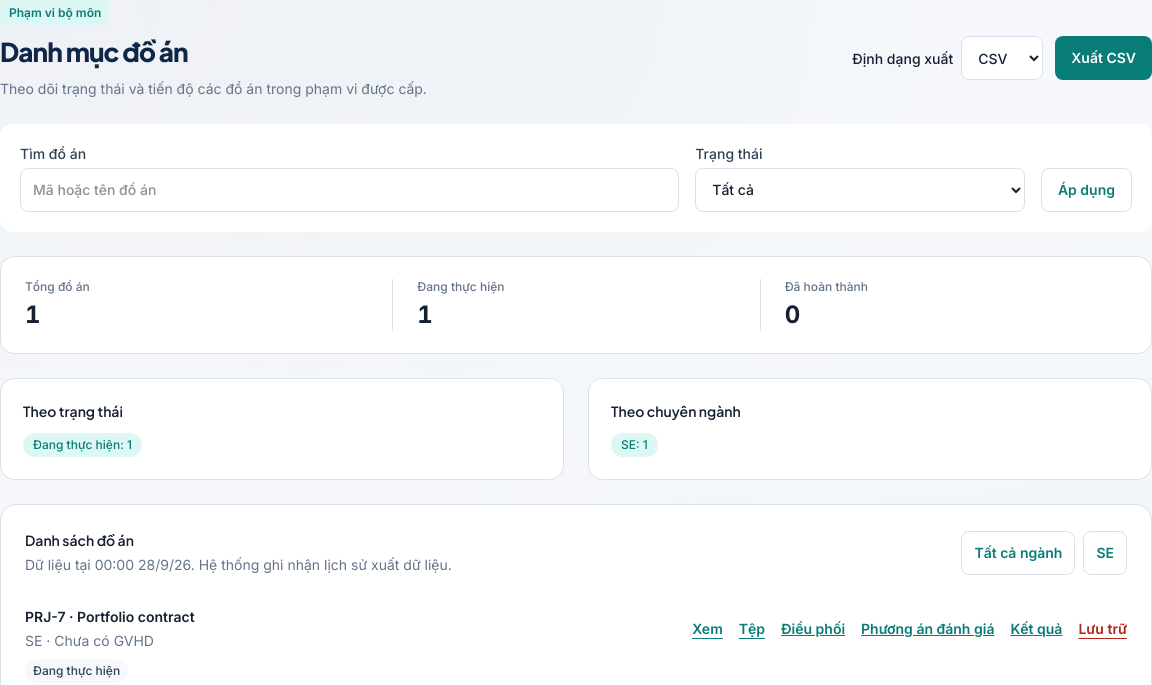
PortfolioDashboardPage › cancels archive without a write, and reloads conflicts without replaying
Click the button "Lưu trữ" at (1103,629), box top-left (1078, 607), bottom-right (1127, 651)
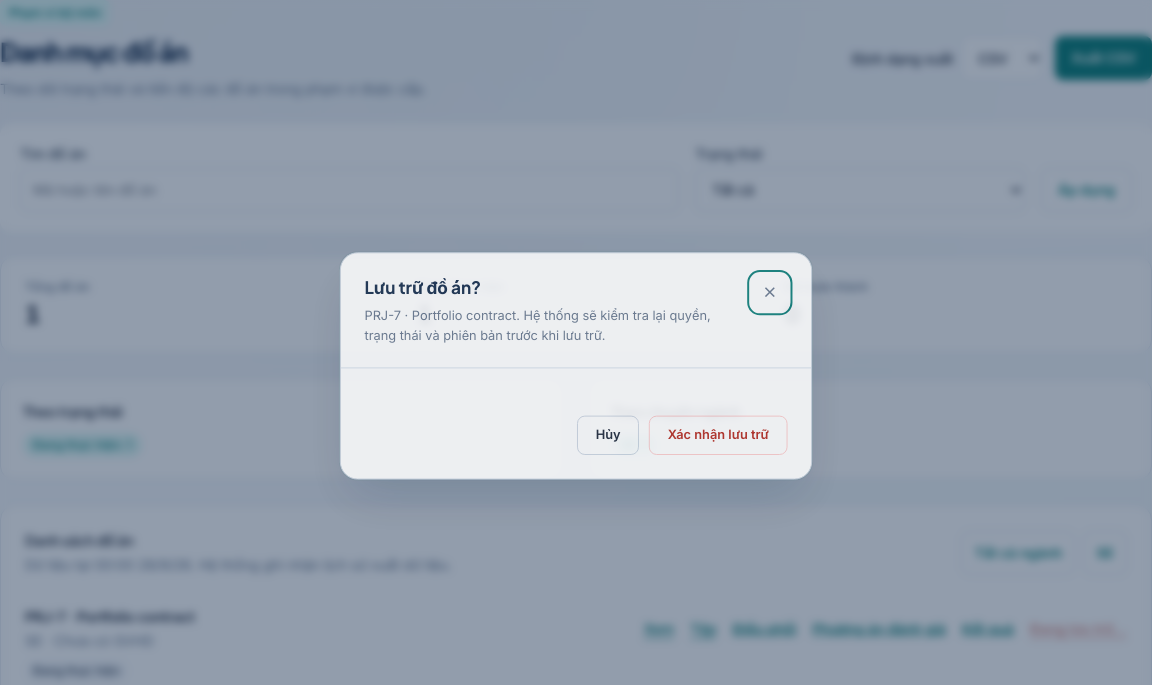
Click the button "Hủy" at (609,431), box top-left (577, 411), bottom-right (640, 451)
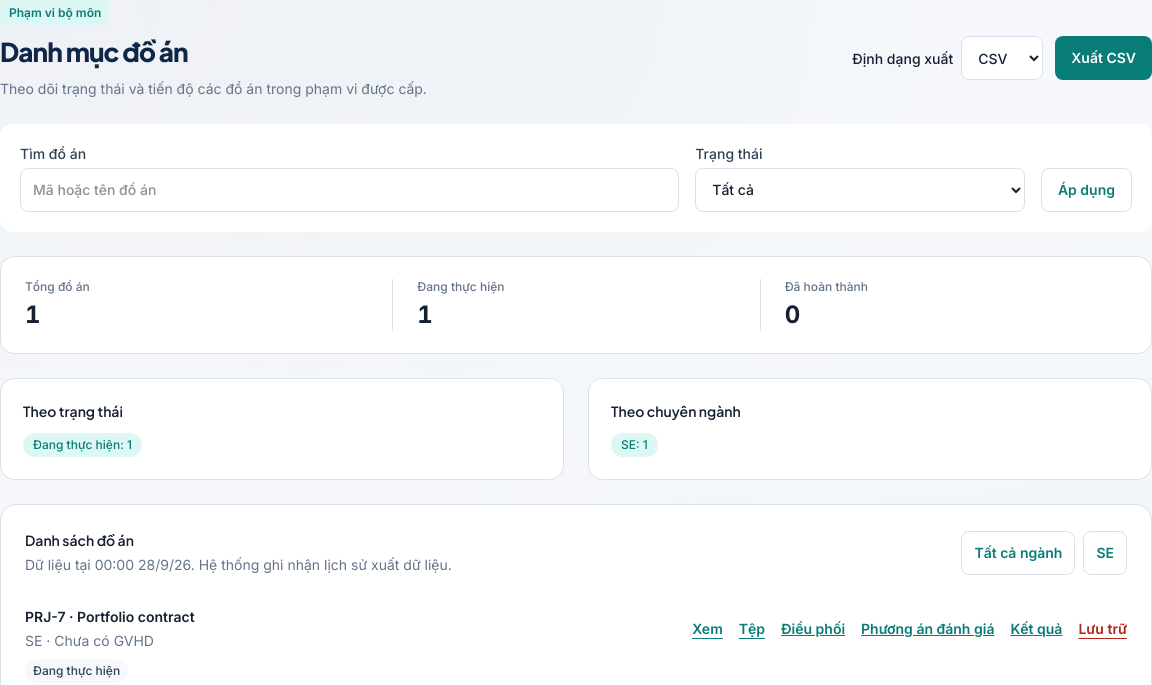
Click the button "Lưu trữ" at (1103,629), box top-left (1078, 607), bottom-right (1127, 651)
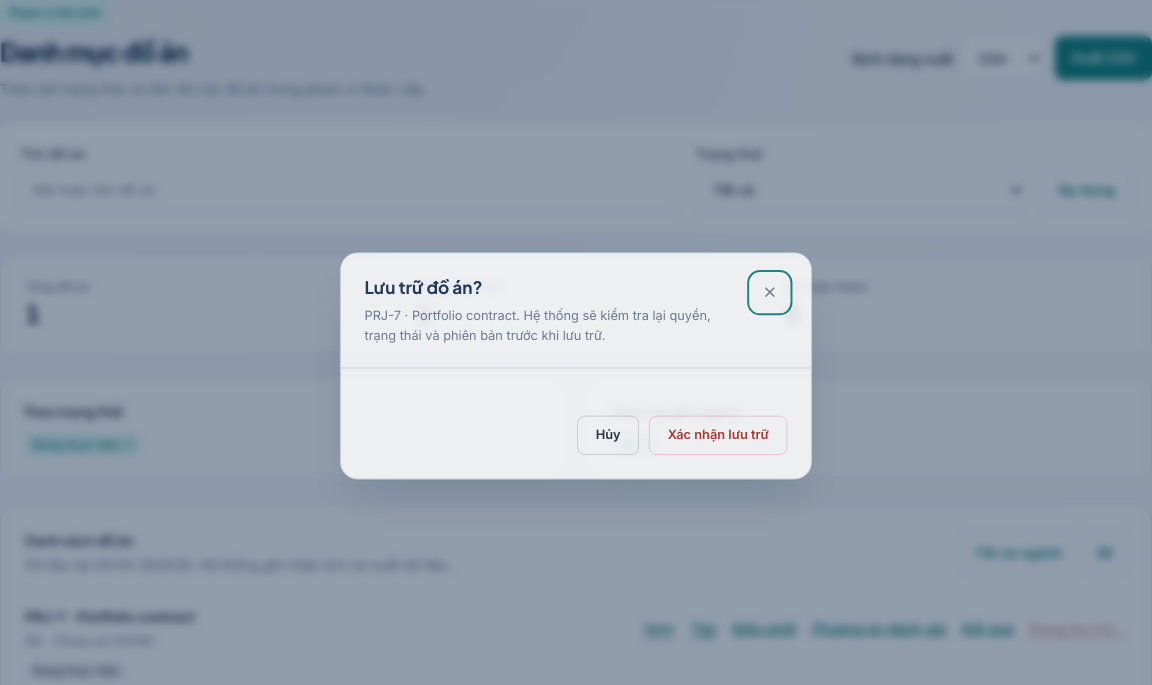
Click the button "Xác nhận lưu trữ" at (721,431), box top-left (650, 411), bottom-right (791, 451)
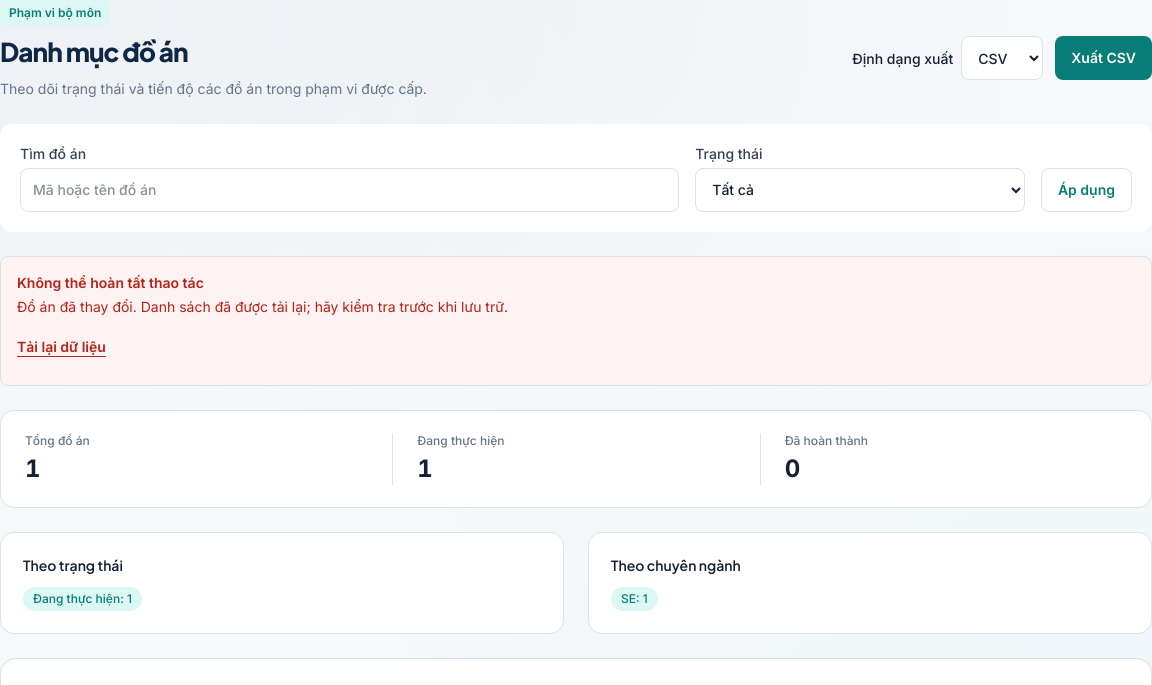
Check: the text "Đồ án đã thay đổi" is shown, box top-left (17, 298), bottom-right (508, 315)
